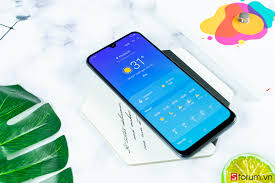samsung: (84, 29, 237, 158)
